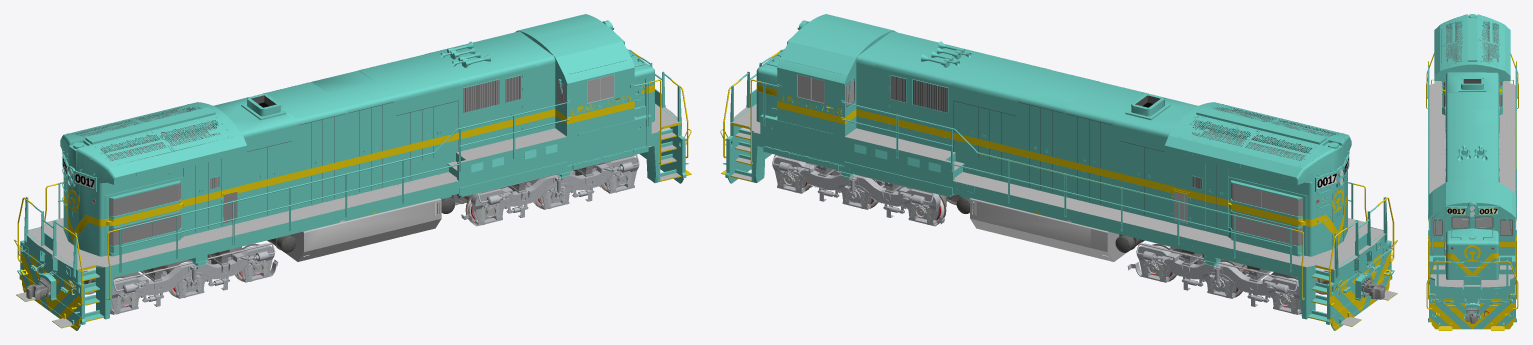
The model's file is nd5.mobile.glb.
The picture shows the model from 3 angles, left to right: view 1: azimuth 30°, elevation 25°; view 2: azimuth 150°, elevation 25°; view 3: azimuth 270°, elevation 25°; orthographic projection. The views are drawn at different scales.
Parts seen in each view (by area): view 1: Material2 (×10), Material3 (×10); view 2: Material2 (×13), Material3 (×9); view 3: Material2 (×7), Material3 (×10).
Boxes of the visible parts, left/top/right/bottom form: Material2 (×10): left=15, top=14, right=688, bottom=330; Material3 (×10): left=14, top=50, right=691, bottom=330; Material2 (×13): left=720, top=14, right=1394, bottom=330; Material3 (×9): left=720, top=50, right=1397, bottom=330; Material2 (×7): left=1428, top=14, right=1516, bottom=329; Material3 (×10): left=1426, top=21, right=1518, bottom=330.
Size of the model in its own units: 757 by 187 by 132.
Materials: 34 (9 with a texture image).
